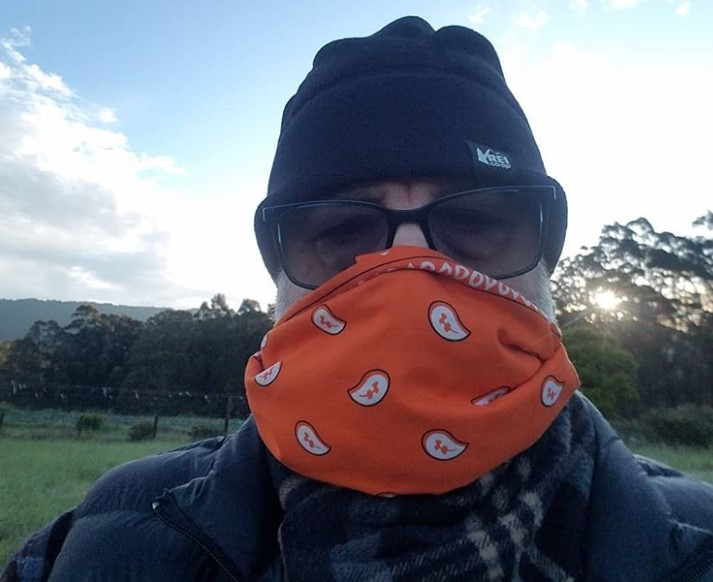face_with_mask: (267, 94, 553, 450)
